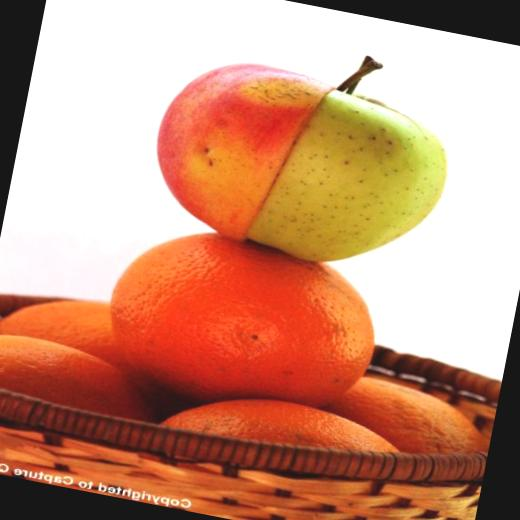Apple: (134, 30, 474, 296)
Grape: (87, 210, 401, 432), (154, 372, 411, 474), (324, 369, 497, 463), (0, 329, 134, 414), (0, 281, 134, 360)
